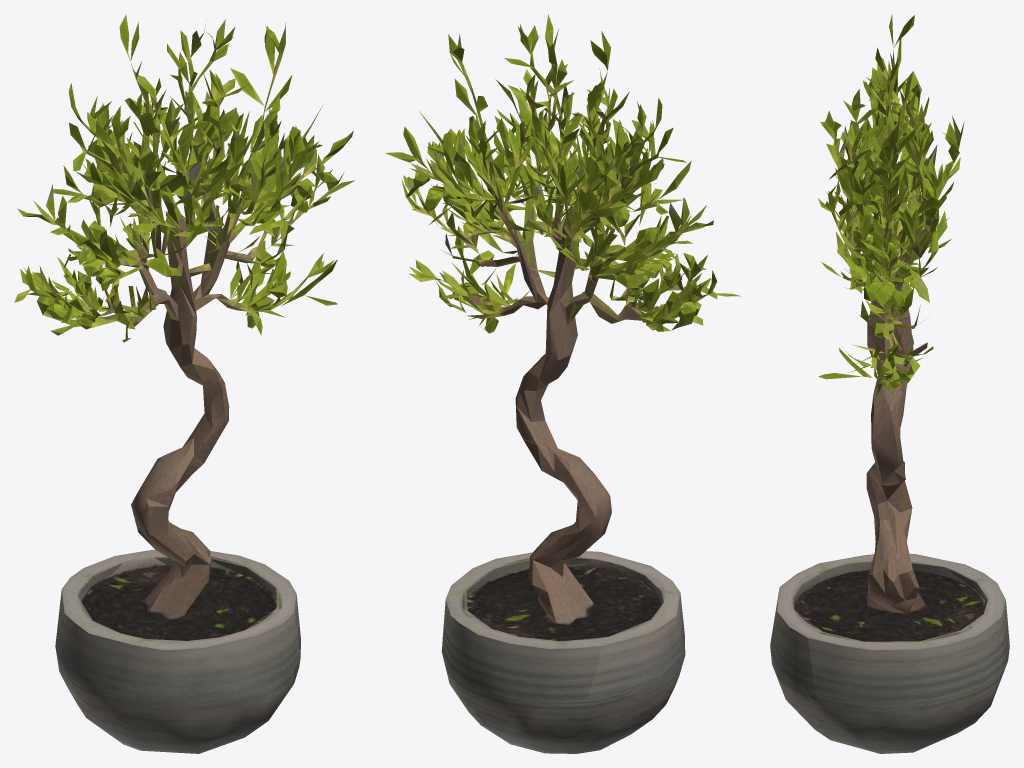
File: olive.glb
3 renders of one model, left to right at view 1: azimuth 30°, elevation 25°; view 2: azimuth 150°, elevation 25°; view 3: azimuth 270°, elevation 25°, orthographic. The views are drawn at different scales.
Visible parts, largest first — view 1: plant; view 2: plant; view 3: plant.
Part boxes in pixels (left/top/right/bottom): plant: left=14, top=14, right=354, bottom=753; plant: left=385, top=14, right=741, bottom=753; plant: left=770, top=14, right=1009, bottom=753.
Bounding box in the file's own units: 1.02 × 2 × 0.6278.
1 material, 1 textured.
